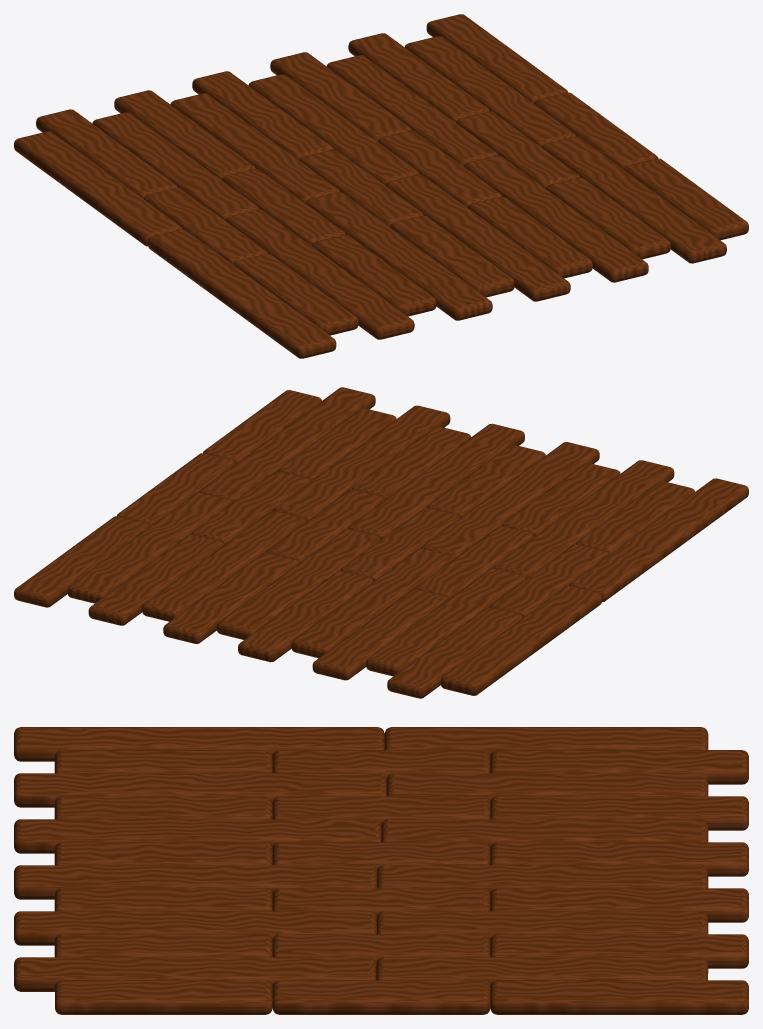
Rendered from woodground.fbx.
3 renders of one model, top to bottom at view 1: azimuth 30°, elevation 25°; view 2: azimuth 150°, elevation 25°; view 3: azimuth 270°, elevation 25°, orthographic. The views are drawn at different scales.
Visible parts, largest first — view 1: yer; view 2: yer; view 3: yer.
Part boxes in pixels (x1,y1,x2,y2): yer: (14, 14, 748, 358); yer: (14, 387, 748, 698); yer: (14, 727, 748, 1014).
Bounding box in the file's own units: 1600 × 43.07 × 1800.
